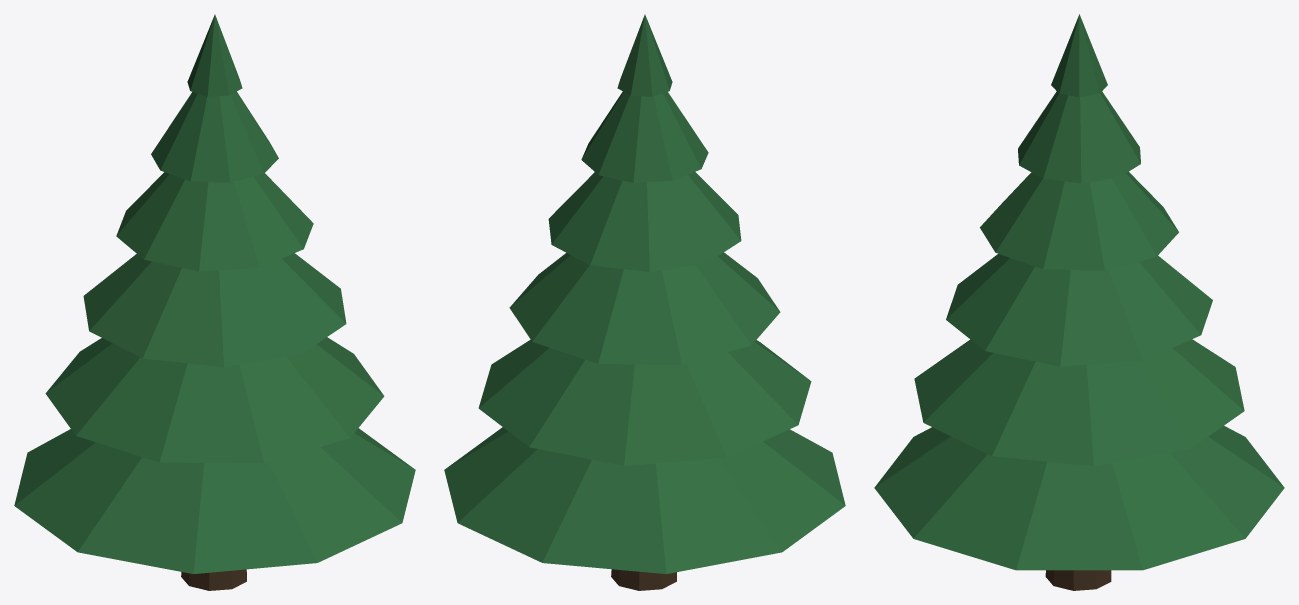
Rendered from pine.glb.
The picture shows the model from 3 angles, left to right: view 1: azimuth 30°, elevation 25°; view 2: azimuth 150°, elevation 25°; view 3: azimuth 270°, elevation 25°; orthographic projection.
Visible parts, largest first — view 1: part-leaves, part-bark; view 2: part-leaves, part-bark; view 3: part-leaves, part-bark.
Boxes of the visible parts, x1,y1,x2,y2 form: part-leaves: (14, 14, 415, 573); part-bark: (181, 569, 246, 590); part-leaves: (444, 14, 845, 573); part-bark: (611, 569, 676, 590); part-leaves: (874, 14, 1284, 570); part-bark: (1045, 570, 1111, 590).
Bounding box in the file's own units: 21.87 × 34.8 × 23.
